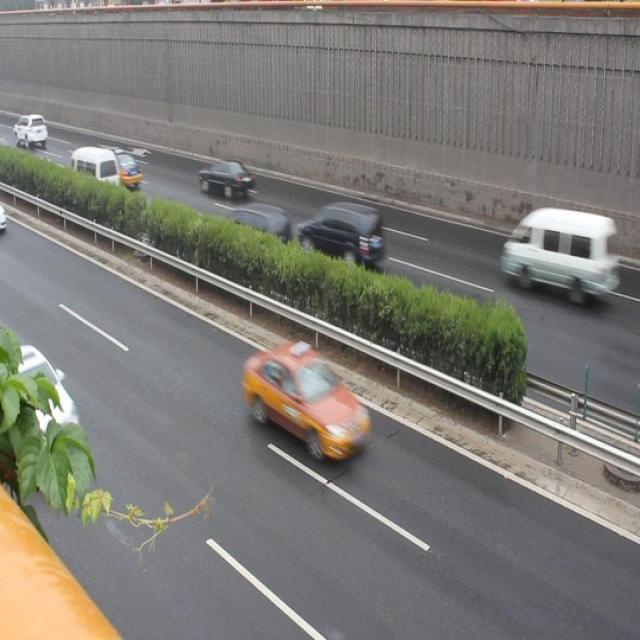car: (242, 338, 376, 466), (227, 201, 294, 252), (199, 156, 253, 198), (104, 149, 144, 190)
truck: (498, 209, 608, 302), (298, 203, 388, 268)
